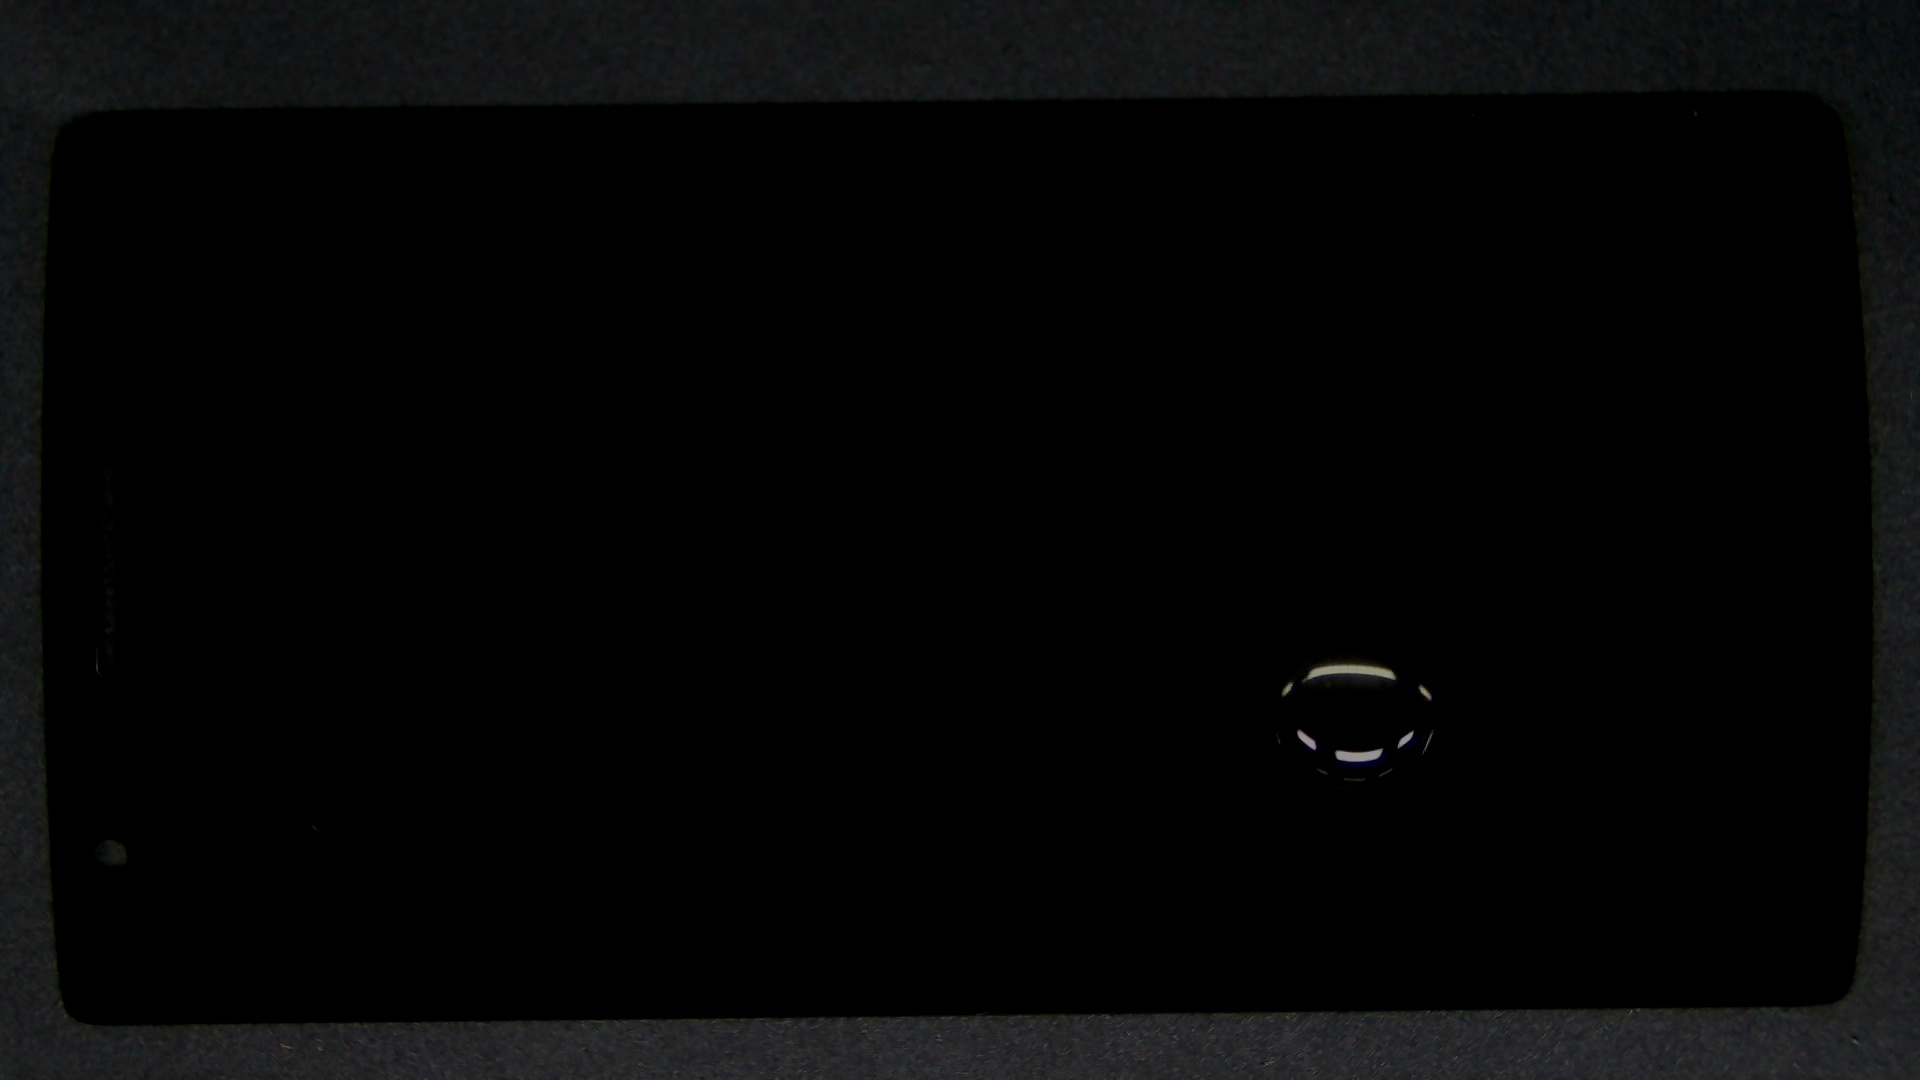oil: (670, 323, 1920, 971)
